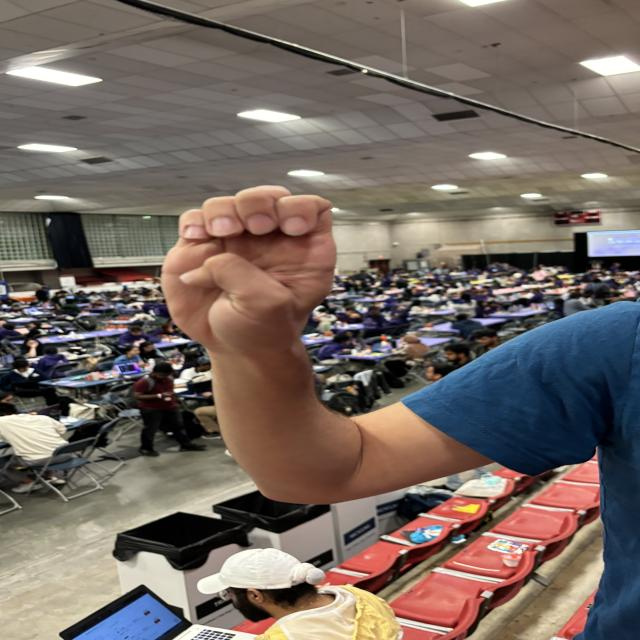E: (156, 178, 366, 359)
